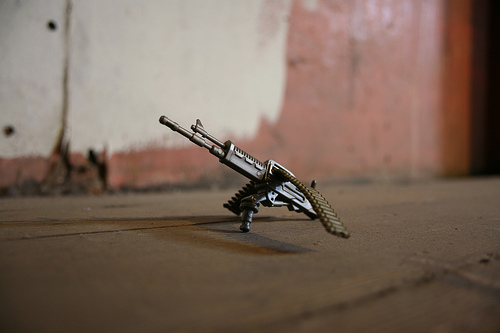rifle: (153, 111, 365, 237)
